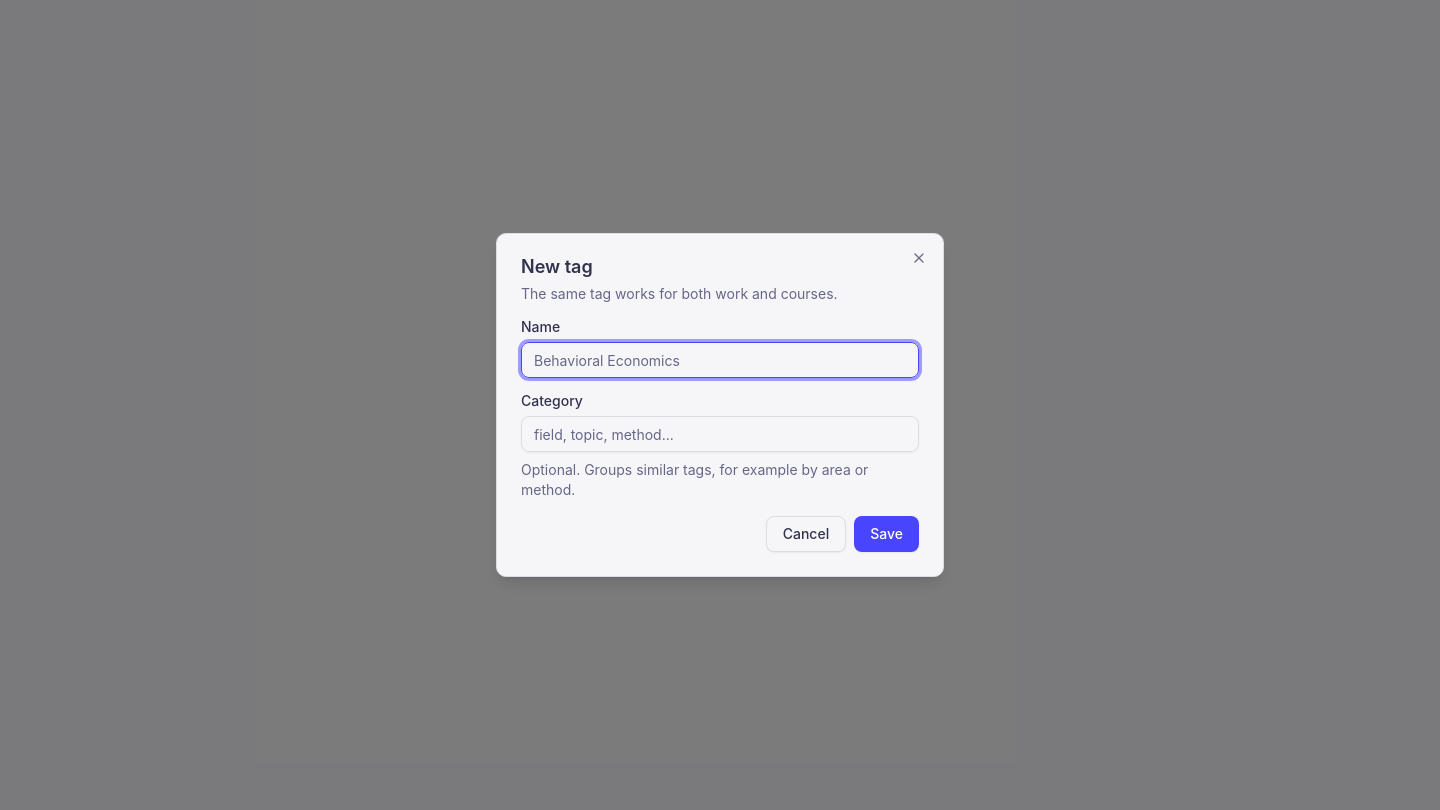
etiqueta duplicada › el 409 se muestra junto al campo del nombre, no en un toast
In the field labelled "Name": coordinates (720, 360) x1=521 y1=342 x2=919 y2=378, type "behavioral economics"
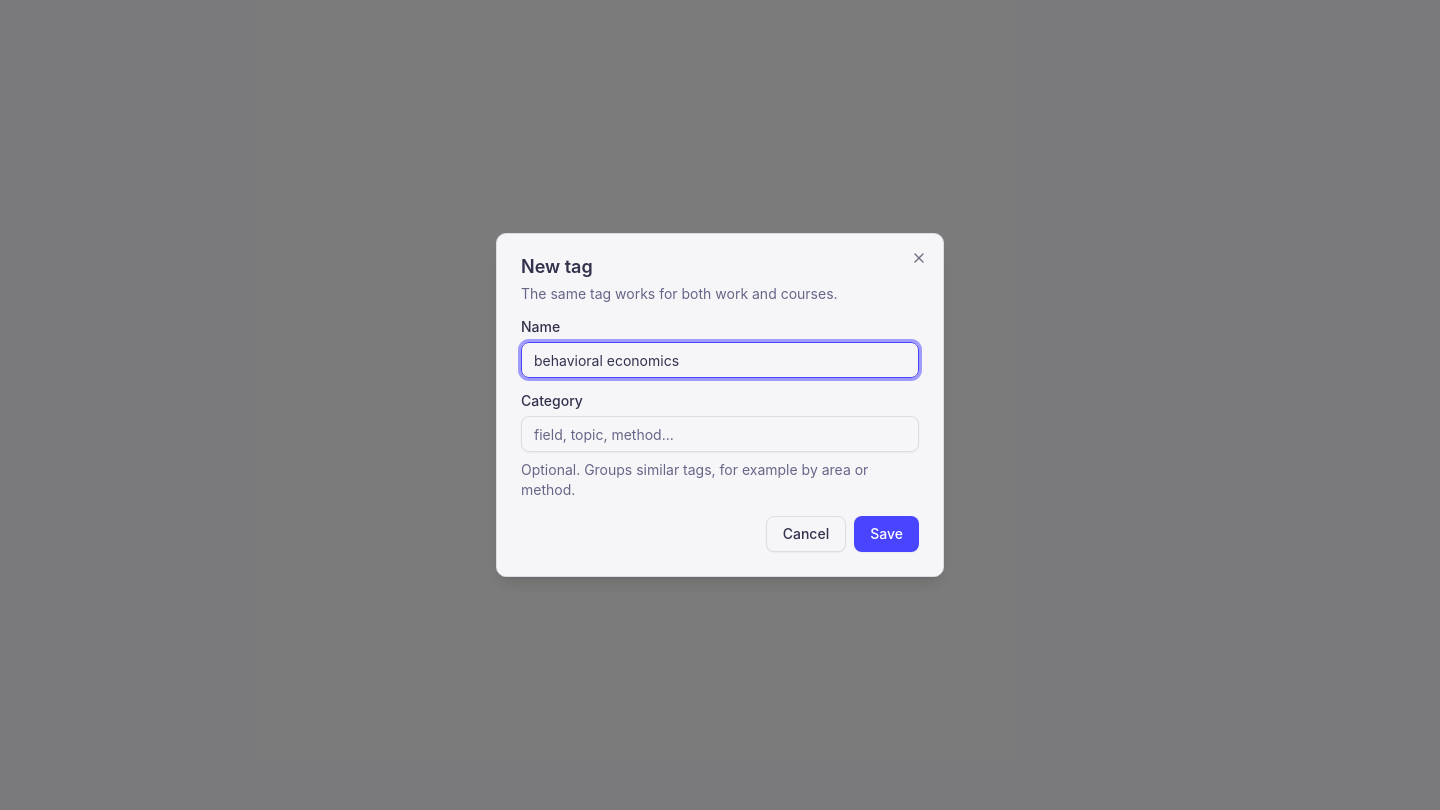
Click the button "Save": coordinates (887, 534) x1=854 y1=516 x2=919 y2=552
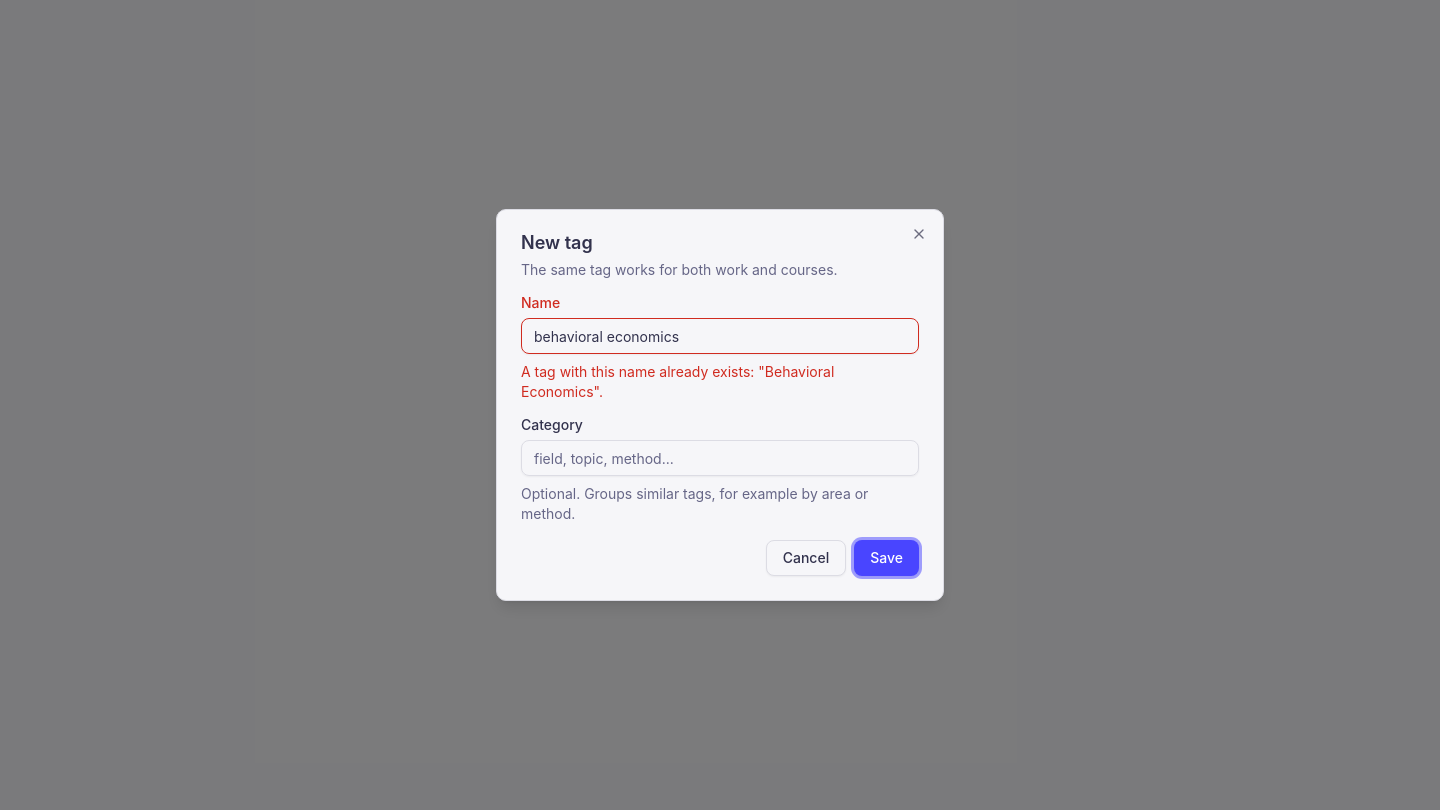
Result: the text "A tag with this name already exists: \"Behavioral Economics\"." is shown at x1=521 y1=363 x2=834 y2=400
